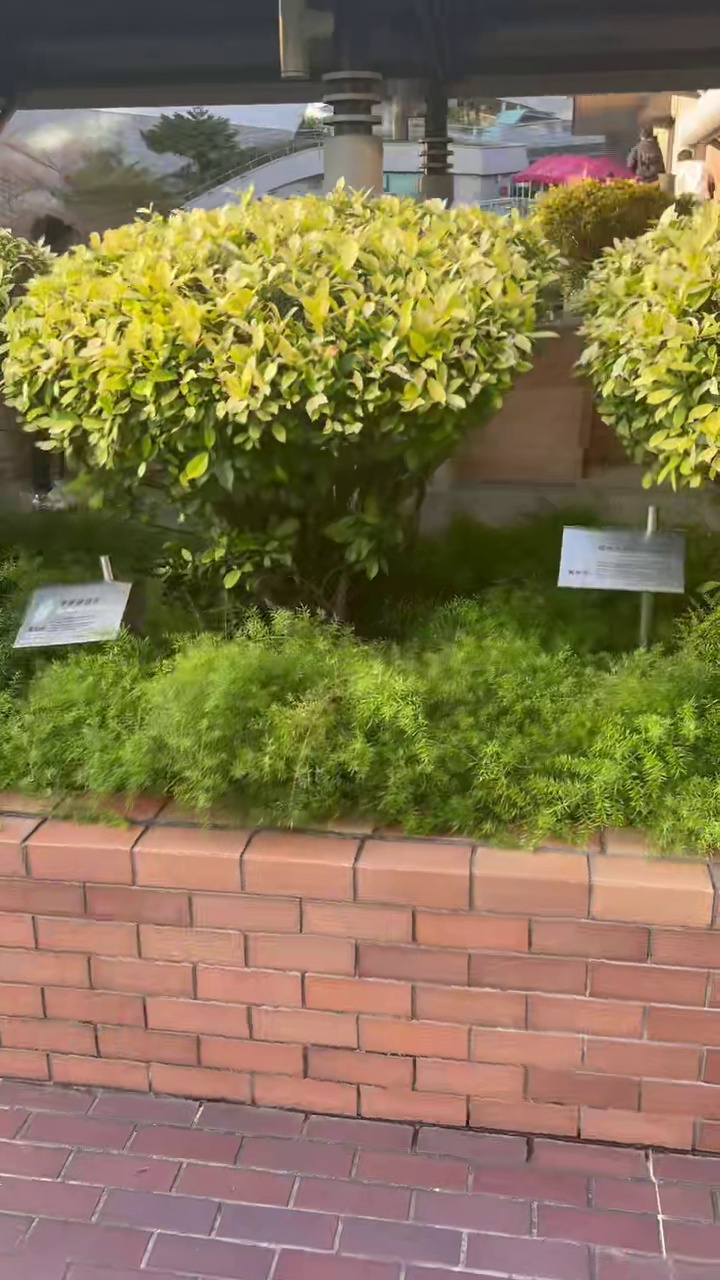Golden-leaves Fig: (5, 188, 552, 615)
